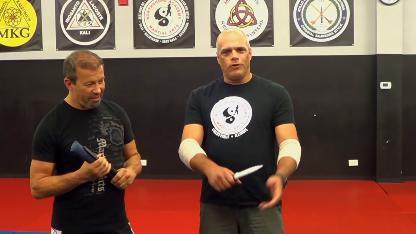knife: (211, 162, 264, 192)
